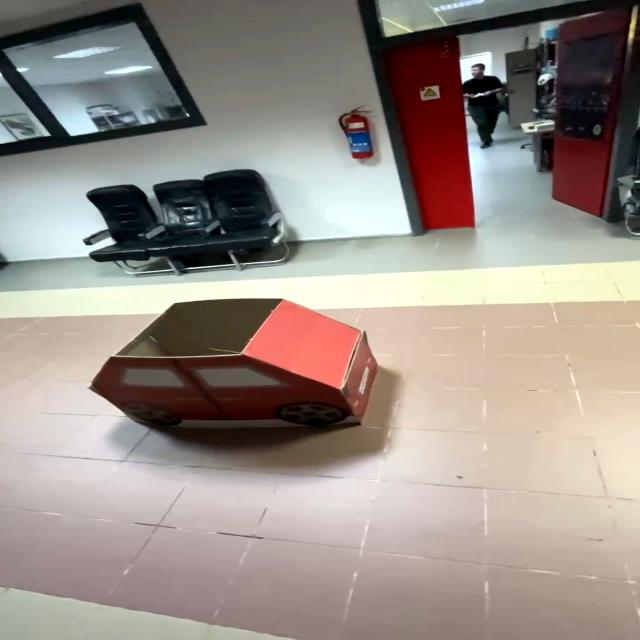red_car: (62, 291, 394, 460)
